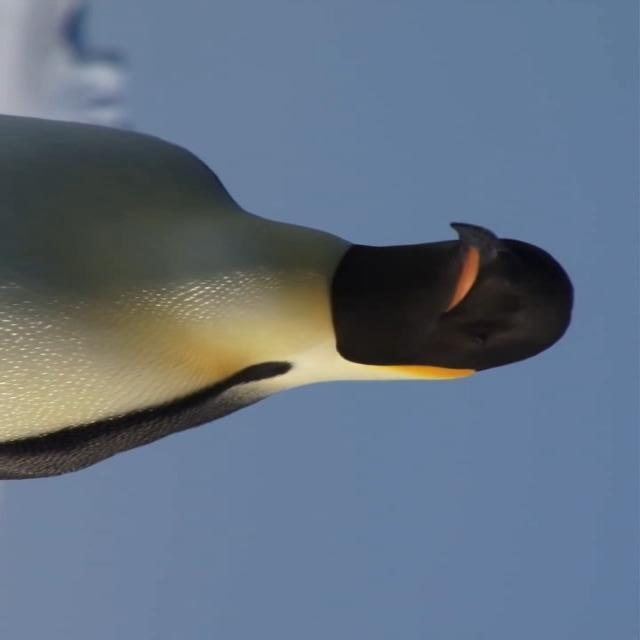penguin: (1, 105, 575, 482)
